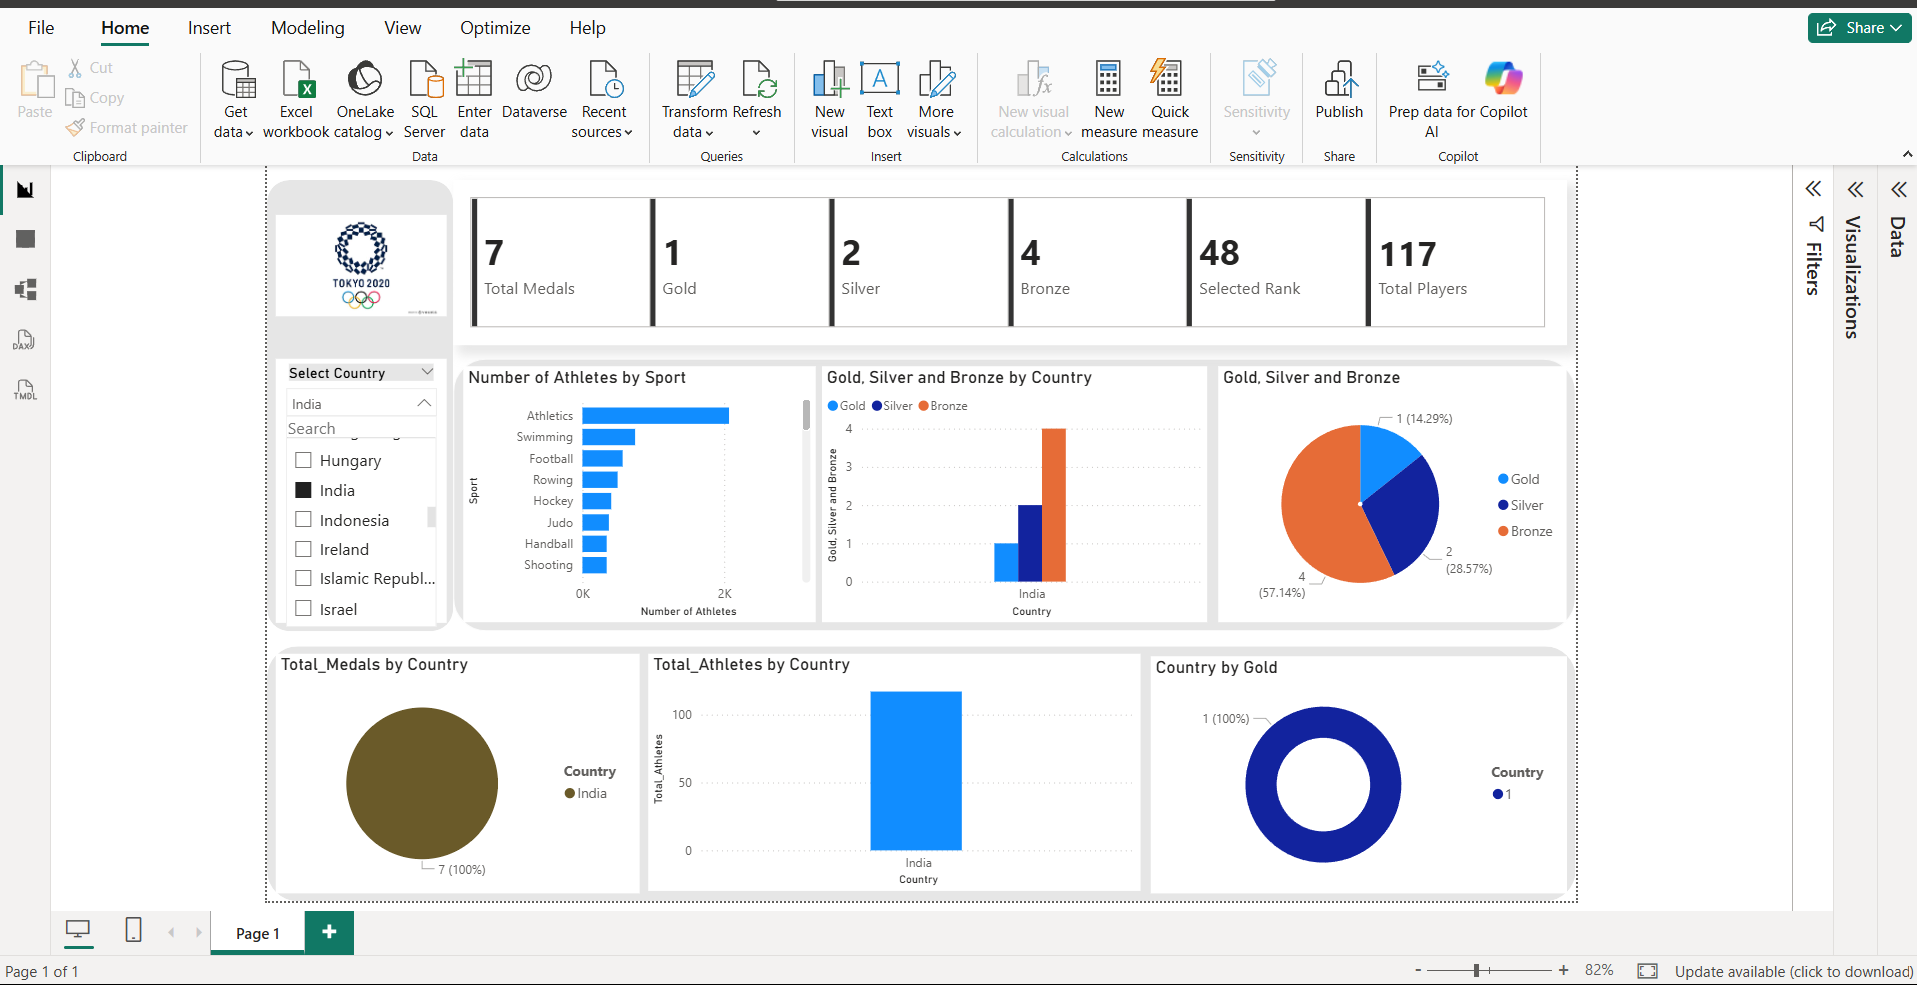

The page's visual inventory and layout, read from the dashboard file:
{"tool":"powerbi","page":{"name":"Page 1","canvas":[1280,720],"ordinal":0},"visuals":[{"type":"shape","box":[0,470.8,1280.3,249.5],"z":0},{"type":"shape","box":[182.2,189.5,1098.1,266.6],"z":1000},{"type":"cardVisual","fields":{"Data":["Sum(country.Total)","Sum(country.Gold)","Sum(country.Silver)","Sum(country.Bronze)","country.Country_Rank","Sum(country.Total_Players)"]},"box":[182.2,14.7,1089.5,161.4],"z":2000},{"type":"barChart","fields":{"Category":["sport.Sport"],"Y":["Sum(sport.Number_of_Players)"]},"box":[192,196.9,344.8,250.7],"z":3000},{"type":"clusteredColumnChart","fields":{"Category":["country.Country"],"Y":["Sum(country.Gold)","Sum(country.Silver)","Sum(country.Bronze)"]},"box":[542.9,196.9,376.6,250.7],"z":4000},{"type":"pieChart","fields":{"Category":["country.Country"],"Y":["Sum(country.Total_Medals)"]},"box":[8.6,478.1,355.8,234.8],"z":5000},{"type":"donutChart","fields":{"Category":["country.Gold"],"Y":["CountNonNull(country.Country)"]},"box":[864.5,480.6,407.2,232.3],"z":6000},{"type":"lineStackedColumnComboChart","fields":{"Category":["country.Country"],"Y":["Sum(country.Total_Athletes)"]},"box":[373,478.1,481.8,232.3],"z":7000},{"type":"pieChart","fields":{"Y":["Sum(country.Gold)","Sum(country.Silver)","Sum(country.Bronze)"]},"box":[930.6,196.9,341.2,250.7],"z":8000},{"type":"shape","box":[0,14.7,182.2,441.4],"z":9000},{"type":"image","box":[8.6,0,167.5,196.9],"z":10000},{"type":"slicer","fields":{"Values":["country.Country"]},"box":[8.6,189.5,167.5,258],"z":11000}]}

Visuals, with their boxes on the page's 1280x720 design canvas (x1, y1, x2, y2). These are canvas units, not pixel positions in the 1917x985 screenshot, which may show the page scaled, cropped or inside an application window:
shape: [0,471,1280,720]
shape: [182,190,1280,456]
cardVisual - Sum(country.Total) x Sum(country.Gold): [182,15,1272,176]
barChart - sport.Sport x Sum(sport.Number_of_Players): [192,197,537,448]
clusteredColumnChart - country.Country x Sum(country.Gold): [543,197,920,448]
pieChart - country.Country x Sum(country.Total_Medals): [9,478,364,713]
donutChart - country.Gold x CountNonNull(country.Country): [864,481,1272,713]
lineStackedColumnComboChart - country.Country x Sum(country.Total_Athletes): [373,478,855,710]
pieChart - Sum(country.Gold) x Sum(country.Silver): [931,197,1272,448]
shape: [0,15,182,456]
image: [9,0,176,197]
slicer - country.Country: [9,190,176,448]
